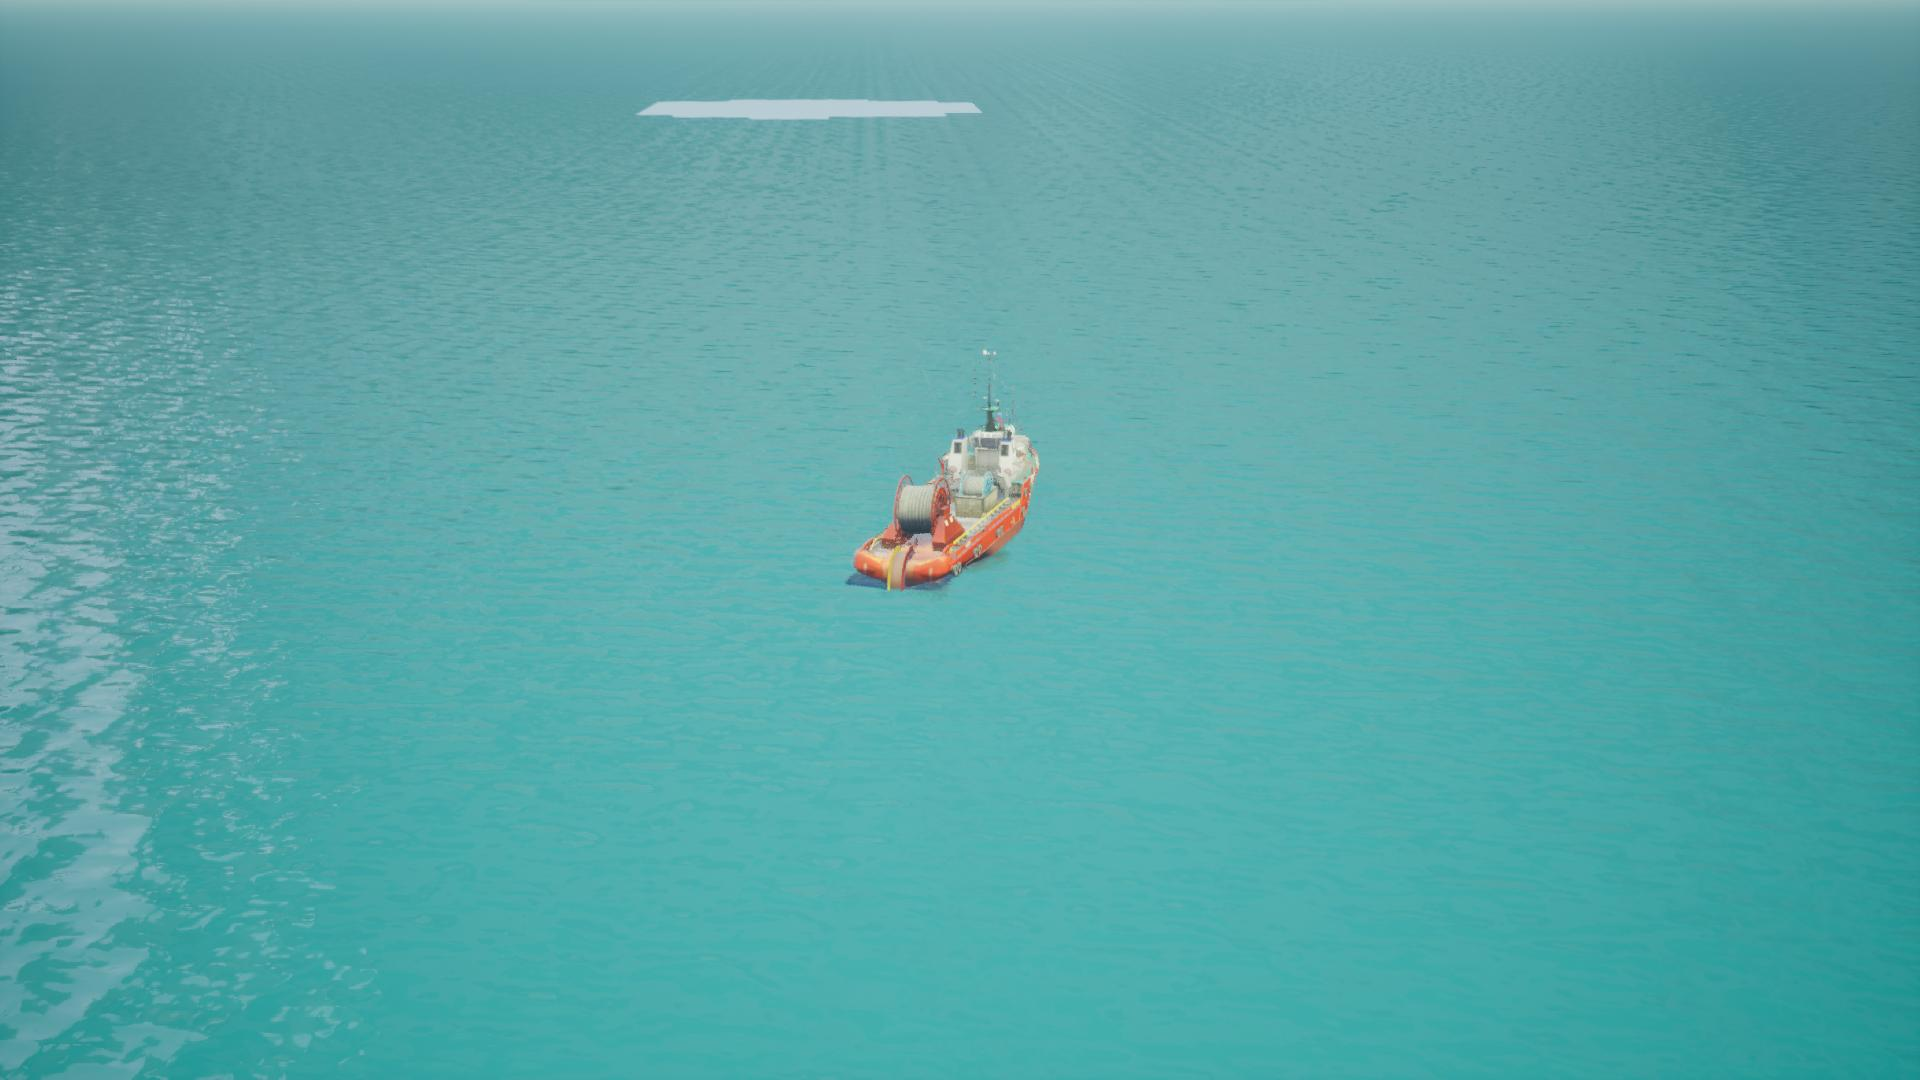Tug Boat: (868, 356, 1039, 595)
